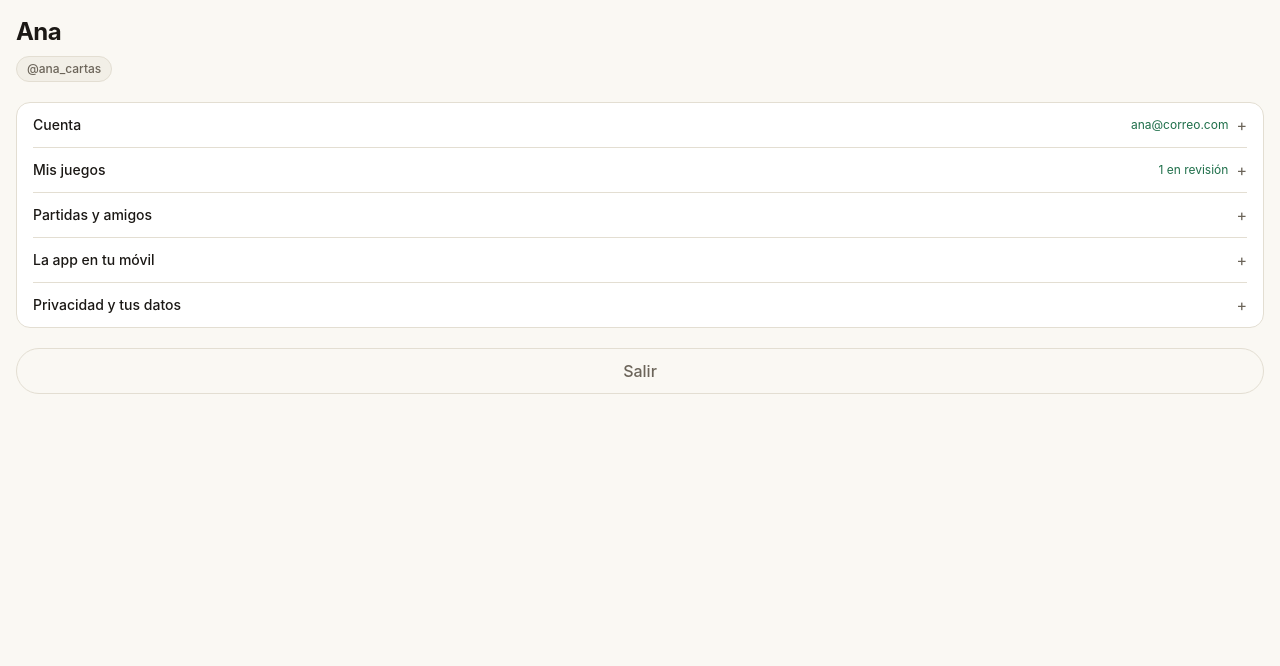
el perfil, en desplegables › mayúsculas y espacios se arreglan solos, sin regañar a nadie
Click the button "Cuenta ana@correo.com +" at (57, 124), box [33,103,1247,147]
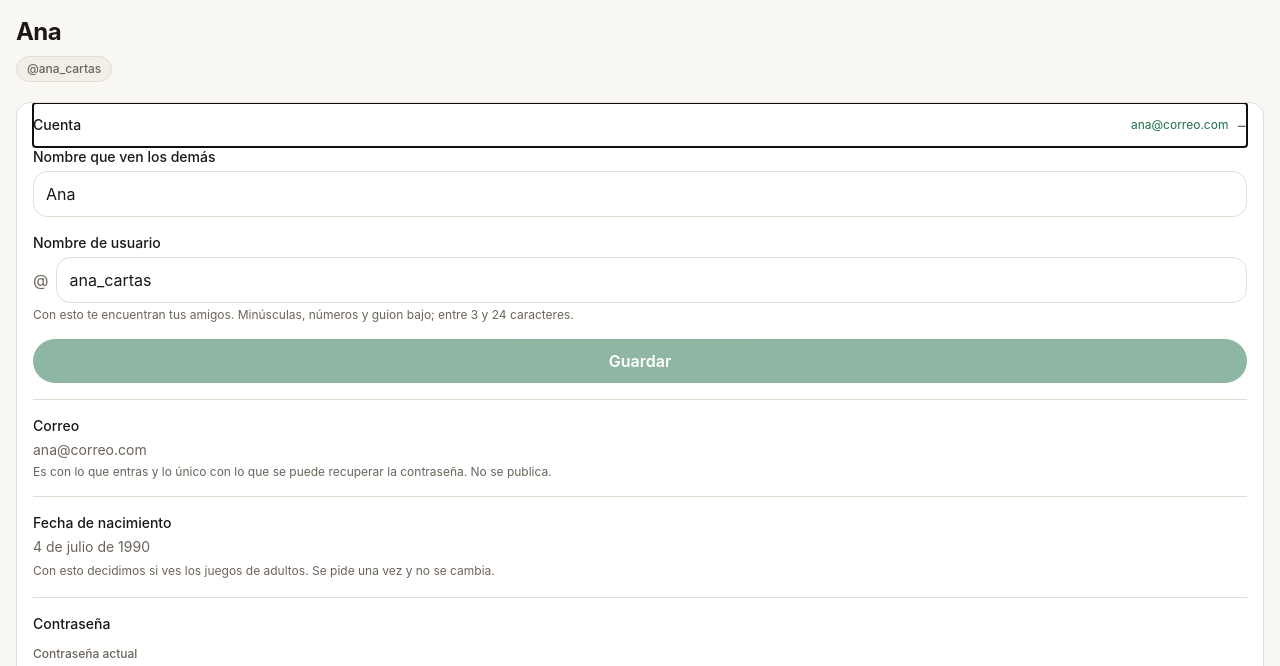
Replace the text in the field labelled "Nombre de usuario" with "Ana Con Espacios" at (652, 280), box [56,257,1247,303]
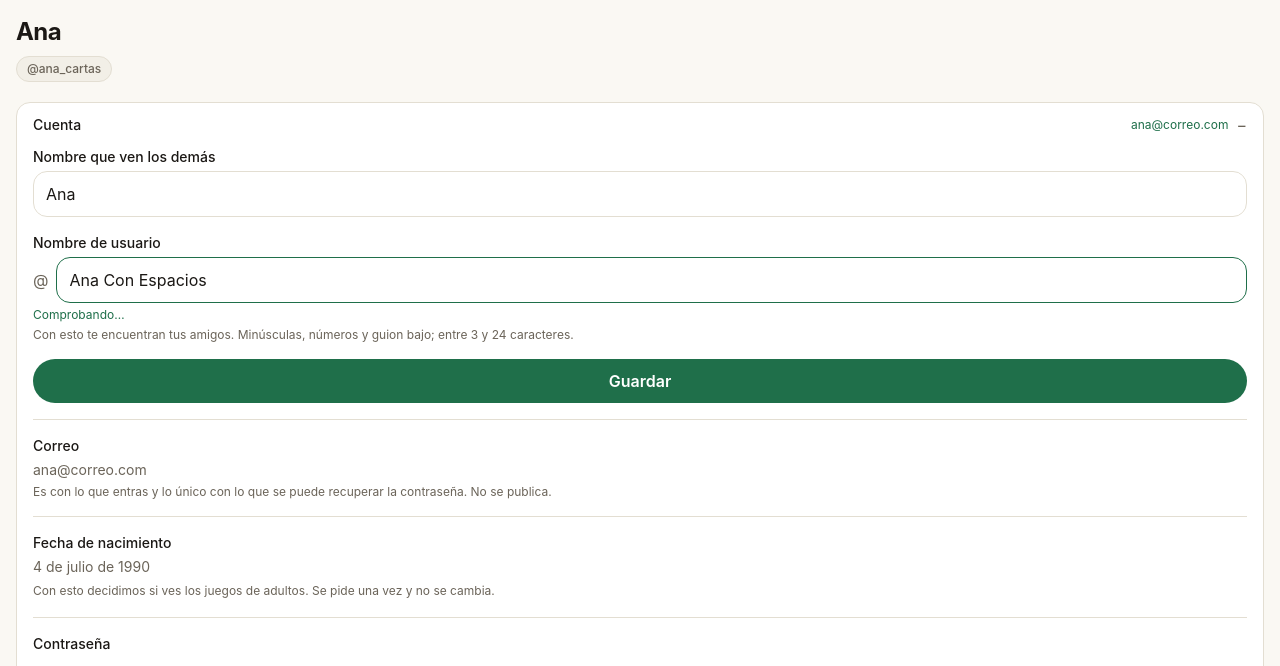
Expected: the button "Guardar" is enabled, [33,359,1247,403]
